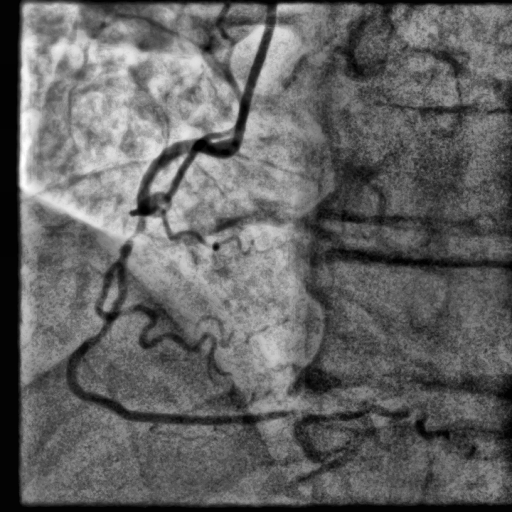pda: (183, 404, 450, 440)
rca: (67, 137, 229, 424)
